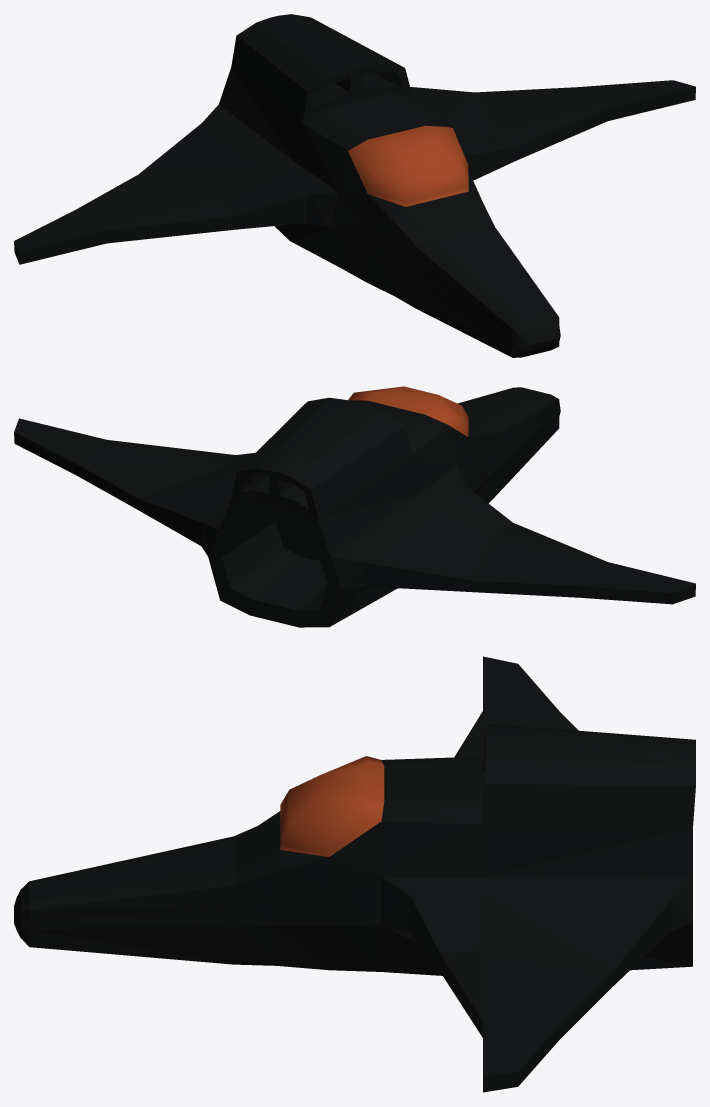
Rendered from Spaceship4.obj.
3 views of the same model, one above another, from view 1: azimuth 30°, elevation 25°; view 2: azimuth 150°, elevation 25°; view 3: azimuth 270°, elevation 25° (orthographic). The views are drawn at different scales.
Parts seen in each view (by area): view 1: Spaceship4; view 2: Spaceship4; view 3: Spaceship4.
Part boxes in pixels (x1=…): Spaceship4: x1=14, y1=14, x2=695, y2=357; Spaceship4: x1=14, y1=386, x2=695, y2=627; Spaceship4: x1=14, y1=656, x2=695, y2=1092.
Size of the model in its own units: 5.44 by 1.26 by 3.74.
